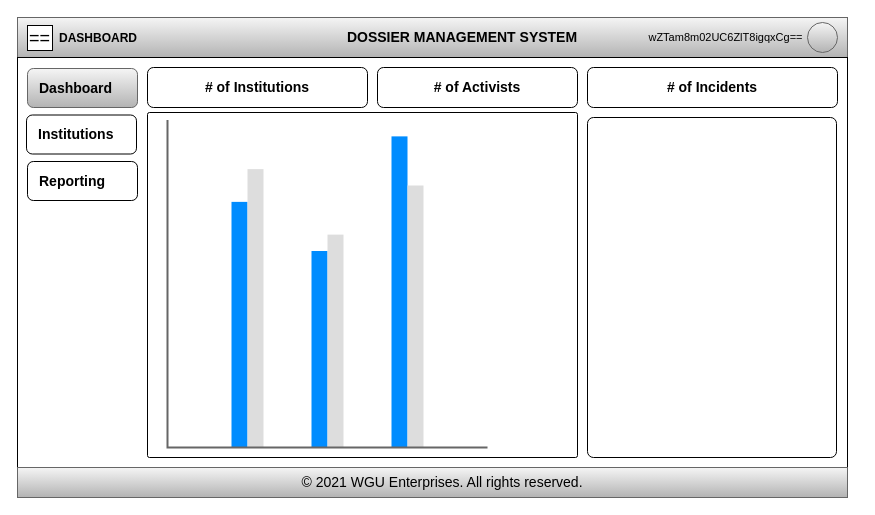
The diagram is 875 pixels wide and 515 high, and some of its shapes have lost their labels. The box of each missing label's shape, as (x1, y1, x2, y2) in pixels:
Monthly Incidents: (167, 120, 487, 447)
Recent Incidents: (586, 116, 836, 458)
